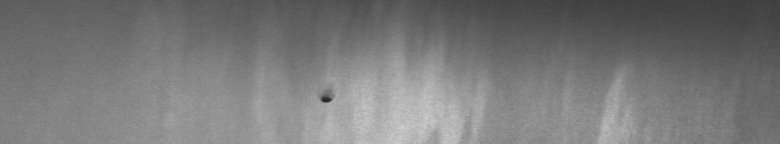fi: (313, 85, 339, 112)
